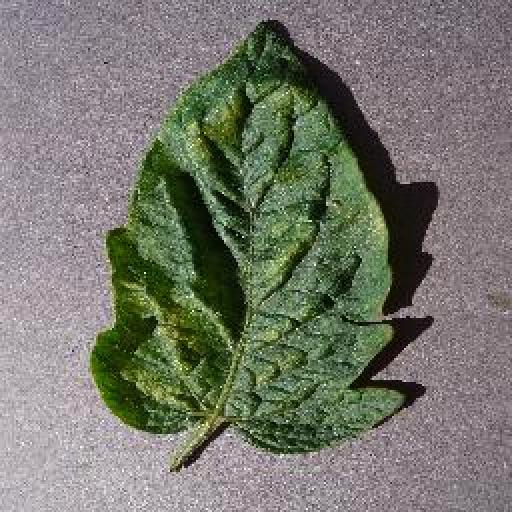disease_tomato: (90, 18, 406, 456)
